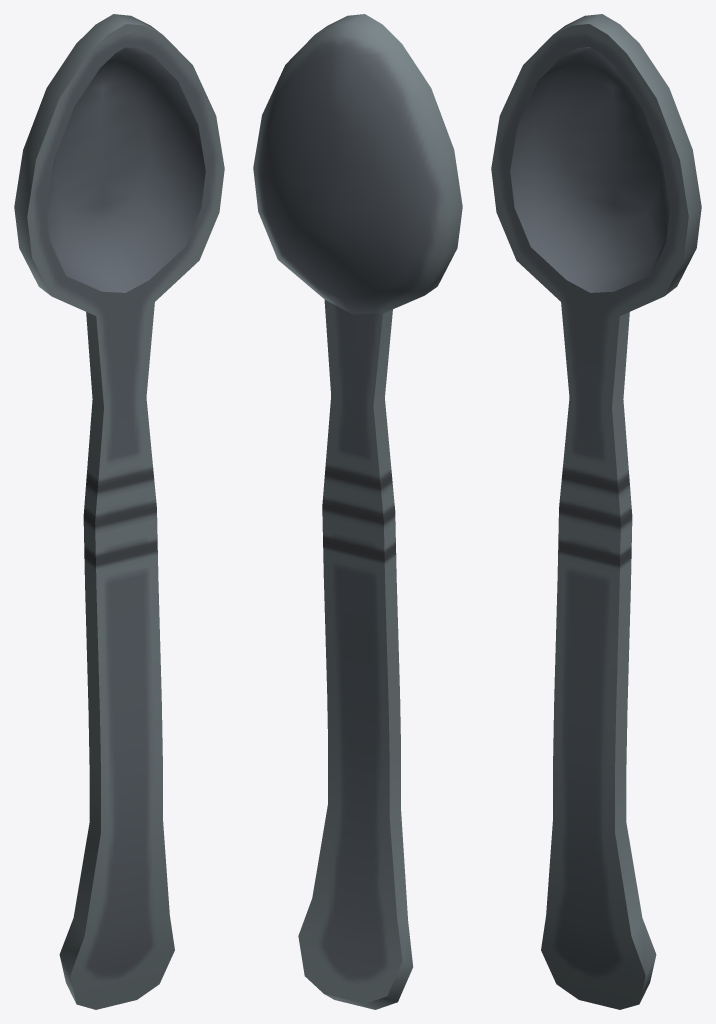
Rendered from Utensil_Spoon.FBX.
3 renders of one model, left to right at view 1: azimuth 30°, elevation 25°; view 2: azimuth 150°, elevation 25°; view 3: azimuth 330°, elevation 25°, orthographic.
Parts seen in each view (by area): view 1: Box125; view 2: Box125; view 3: Box125.
Boxes of the visible parts, box(x1,y1,x2,y2) form: Box125: box(14, 14, 224, 1009); Box125: box(253, 14, 462, 1009); Box125: box(491, 14, 701, 1009).
Bounding box in the file's own units: 22.35 × 107 × 7.4.
